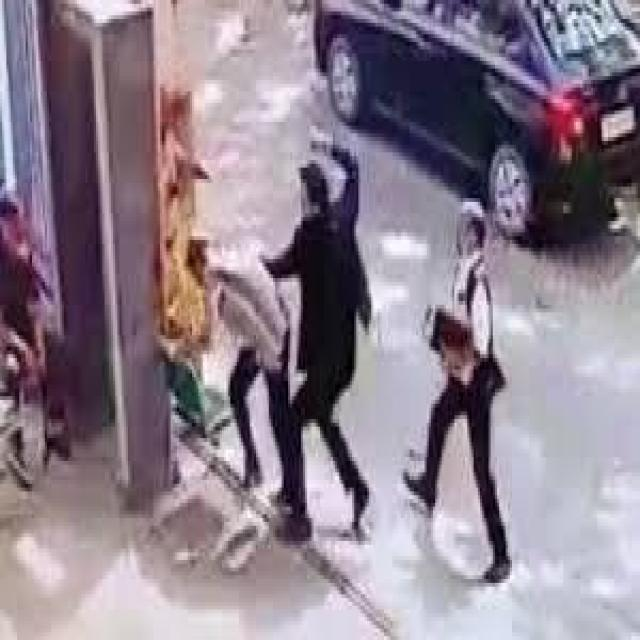fight: (170, 132, 400, 532), (406, 164, 502, 564)
